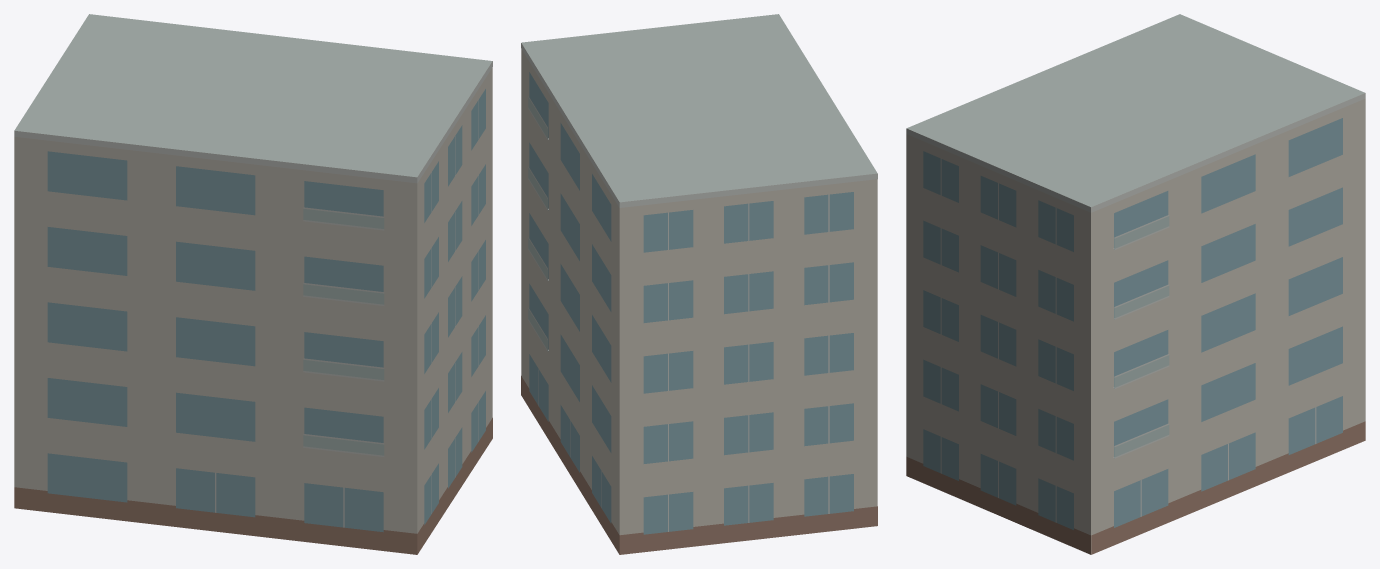
The model's file is survey-upis-32625889.glb.
The picture shows the model from 3 angles, left to right: view 1: azimuth 30°, elevation 25°; view 2: azimuth 150°, elevation 25°; view 3: azimuth 270°, elevation 25°; orthographic projection. The views are drawn at different scales.
Visible parts, largest first — view 1: survey-upis-32625889.tmp; view 2: survey-upis-32625889.tmp; view 3: survey-upis-32625889.tmp.
Part boxes in pixels (box(x1,y1,x2,y2)): survey-upis-32625889.tmp: box(14, 14, 492, 554); survey-upis-32625889.tmp: box(521, 14, 877, 554); survey-upis-32625889.tmp: box(906, 14, 1365, 554).
Size of the model in its own units: 18.19 by 15.25 by 18.27.
